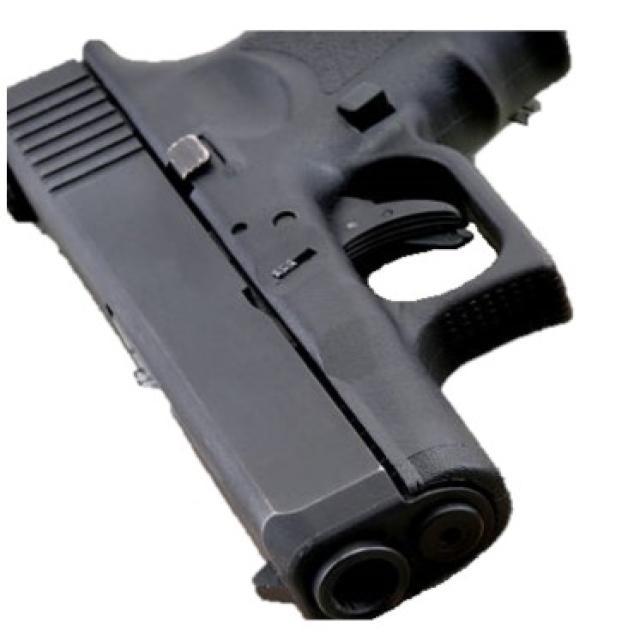pistol: (1, 1, 598, 633)
